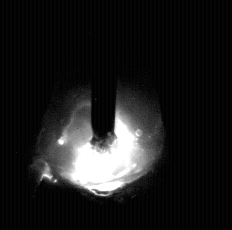arame: (91, 0, 117, 152)
poca: (37, 0, 163, 230)
